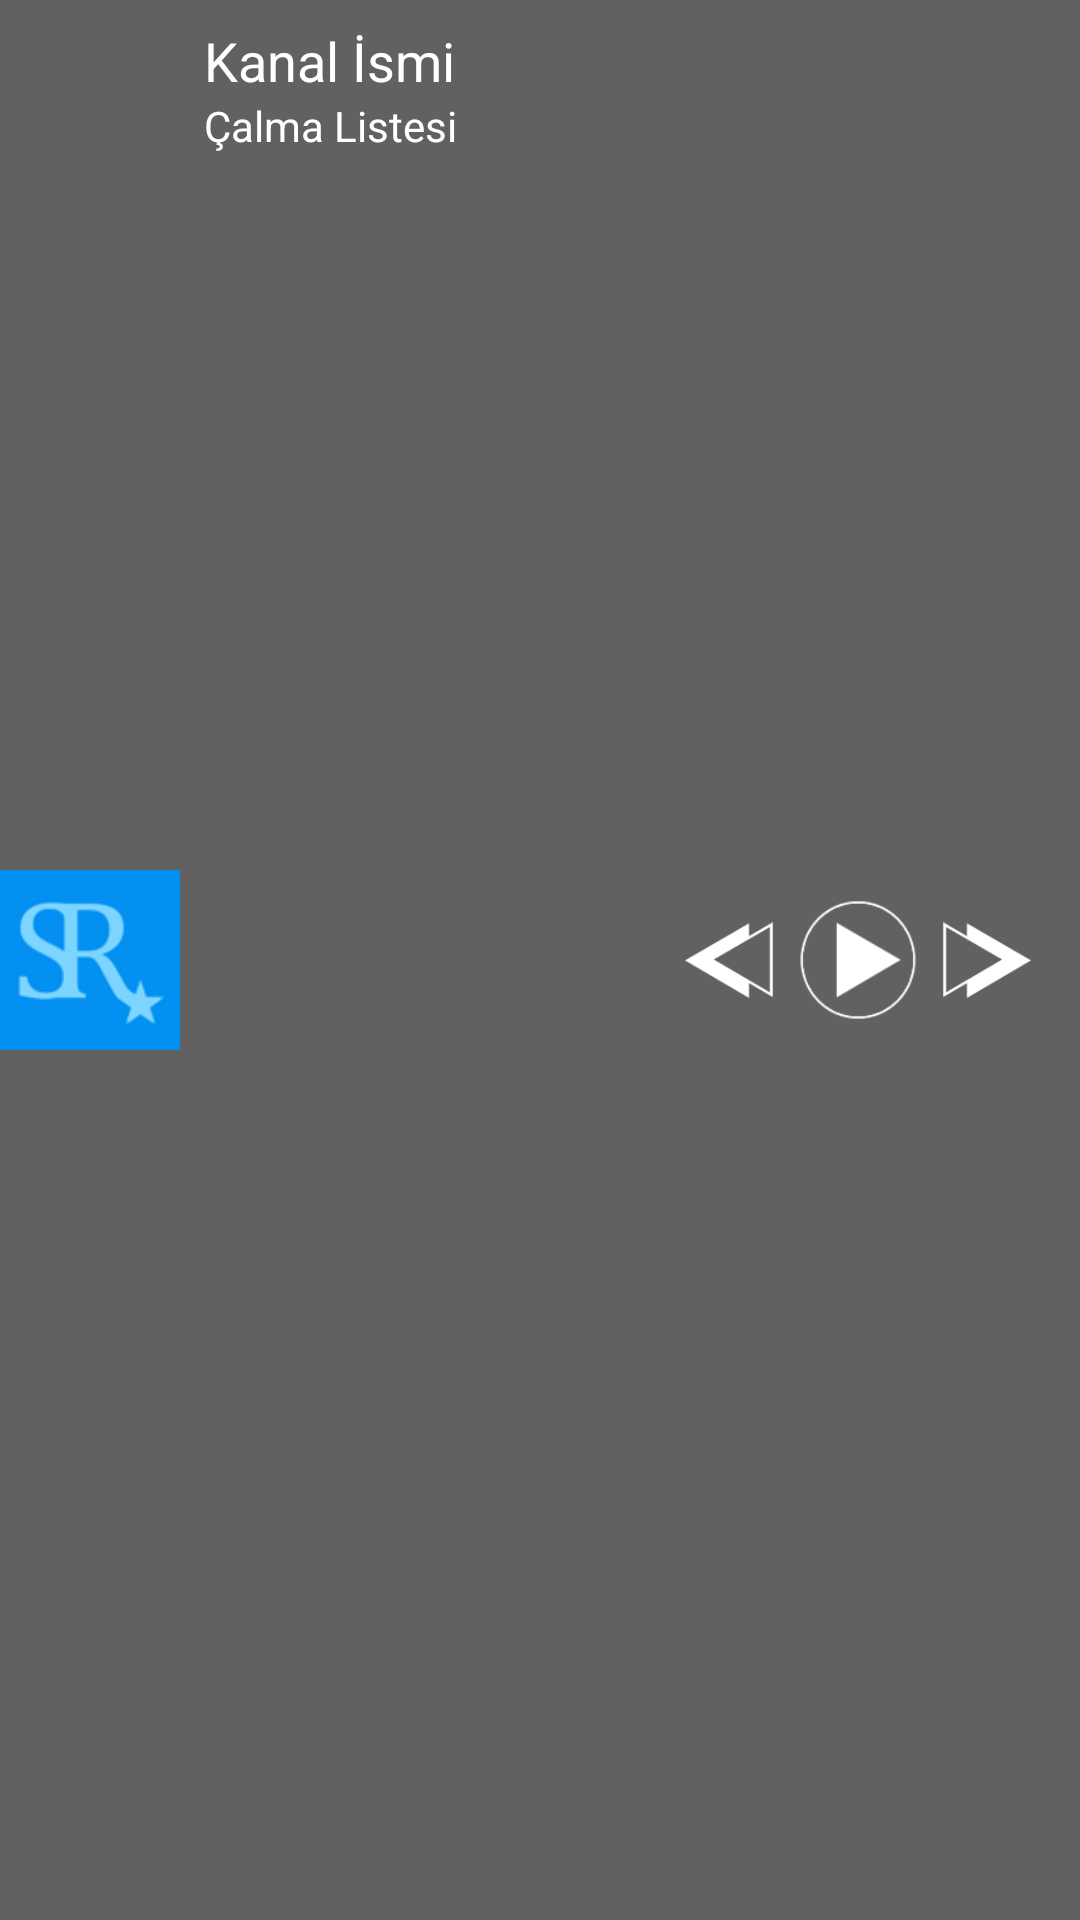

Where to tap for icons on this 1080×1920 app screen, as (x=x, y=y):
Oynat: (x=858, y=960)
Sonraki: (x=987, y=960)
Önceki: (x=729, y=960)
